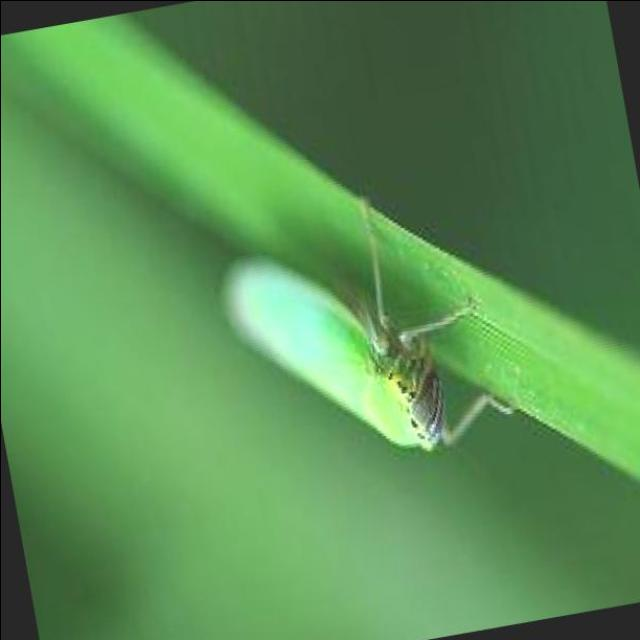green leaf hopper: (222, 202, 513, 450)
